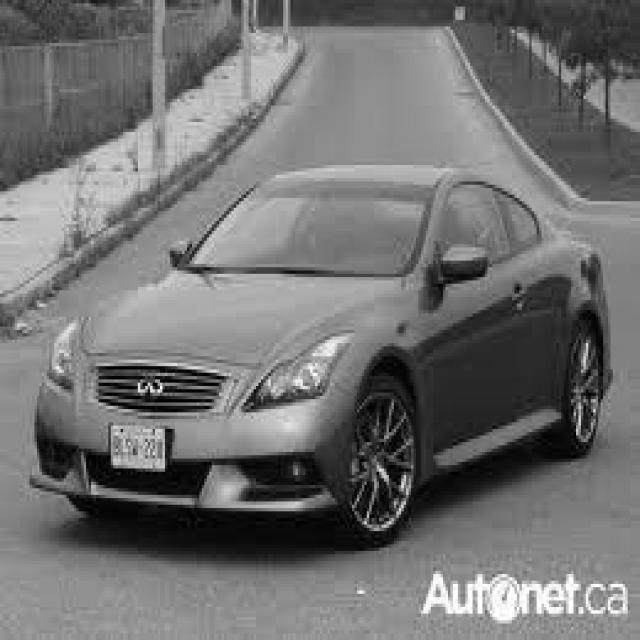Sedan: (30, 165, 612, 543)
